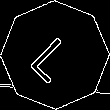L_NE: (26, 26, 84, 84)
